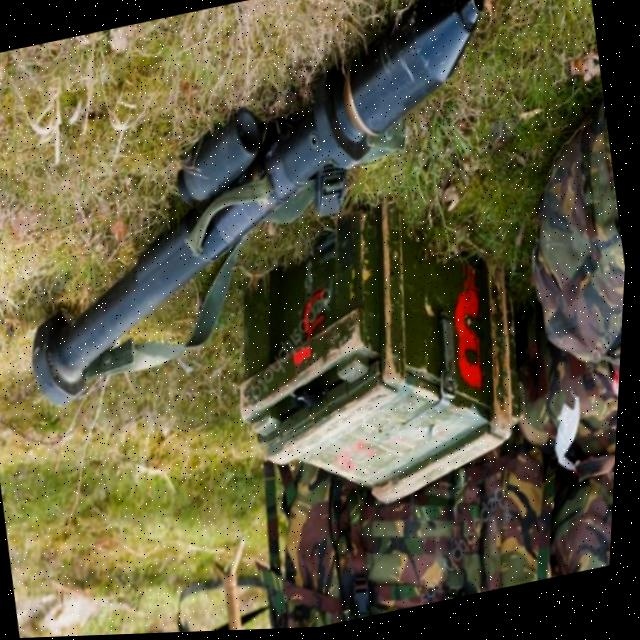rocket: (0, 0, 545, 451)
